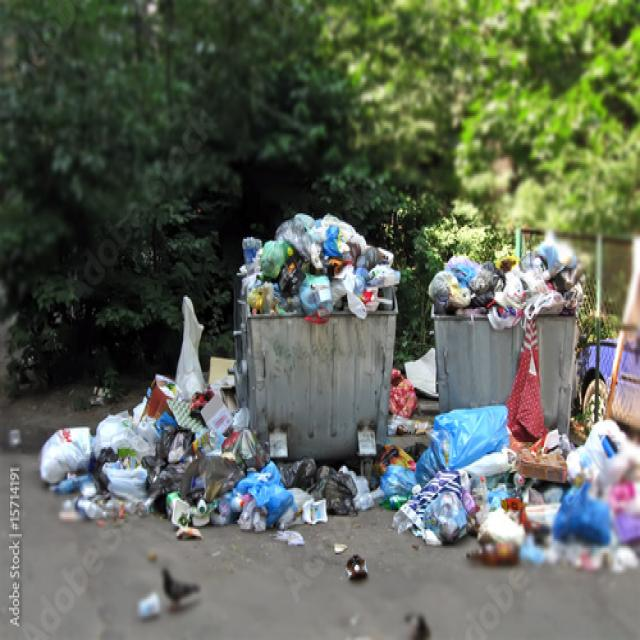trash: (432, 426, 624, 566), (51, 418, 300, 524), (251, 225, 384, 318), (431, 252, 567, 321)
